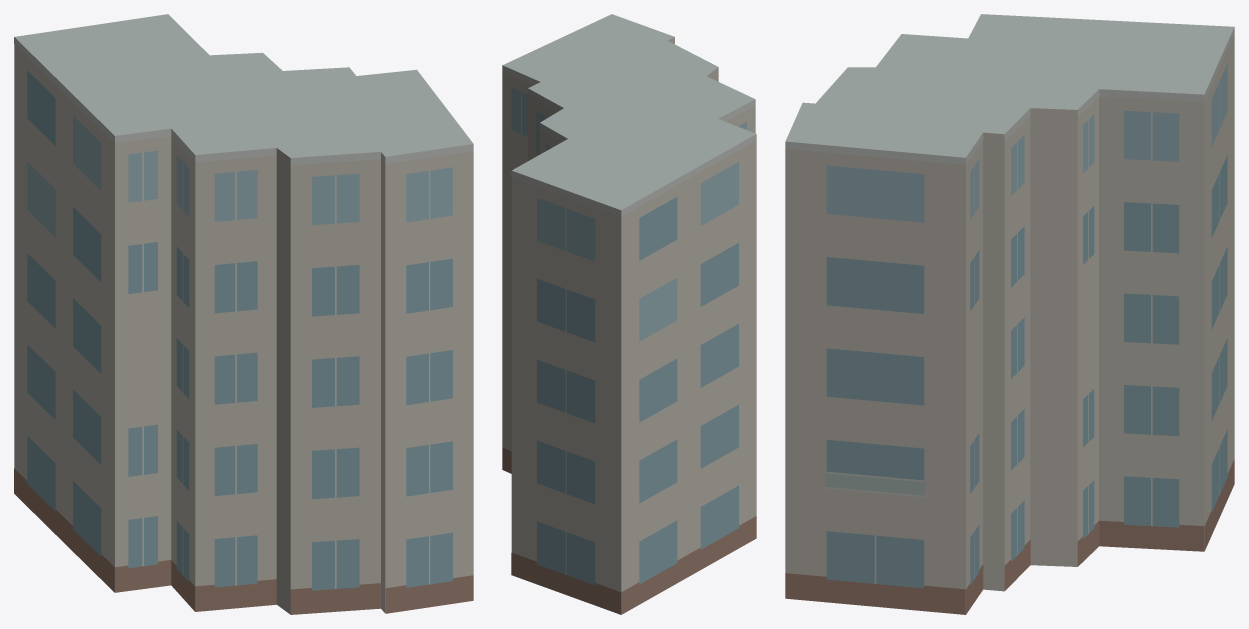
Rendered from survey-upis-32918119.glb.
The picture shows the model from 3 angles, left to right: view 1: azimuth 30°, elevation 25°; view 2: azimuth 150°, elevation 25°; view 3: azimuth 270°, elevation 25°; orthographic projection. The views are drawn at different scales.
Visible parts, largest first — view 1: survey-upis-32918119.tmp; view 2: survey-upis-32918119.tmp; view 3: survey-upis-32918119.tmp.
Boxes of the visible parts, x1,y1,x2,y2 form: survey-upis-32918119.tmp: (14,14,473,614); survey-upis-32918119.tmp: (502,14,756,614); survey-upis-32918119.tmp: (785,14,1234,614).
Size of the model in its own units: 10.3 by 15.25 by 13.59.
